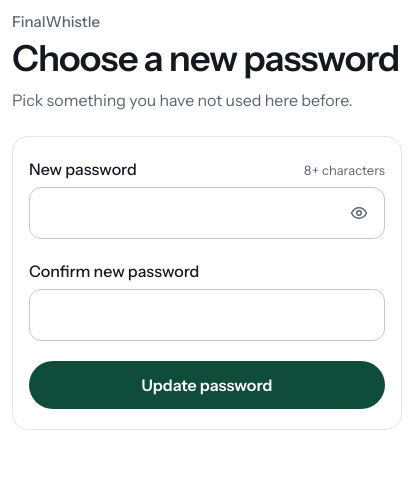
Scenario: shows a friendly error for an invalid/expired token
The width and height of the screenshot is (414, 488).
Type "newpassword1" into the password field labelled "New password" at (207, 213), box [29, 187, 385, 239]
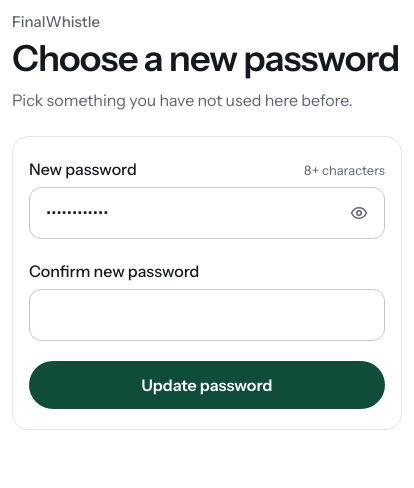
Type "newpassword1" into the password field labelled "Confirm new password" at (207, 315), box [29, 289, 385, 341]
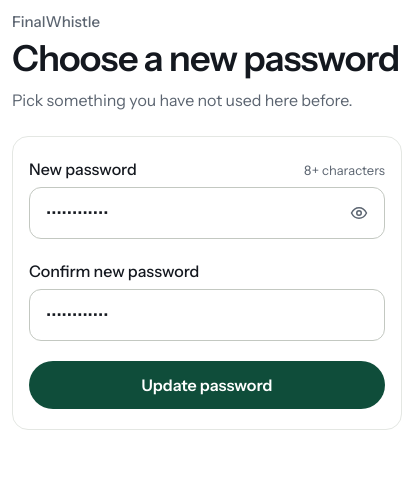
Click the button "Update password" at (207, 385), box [29, 361, 385, 409]
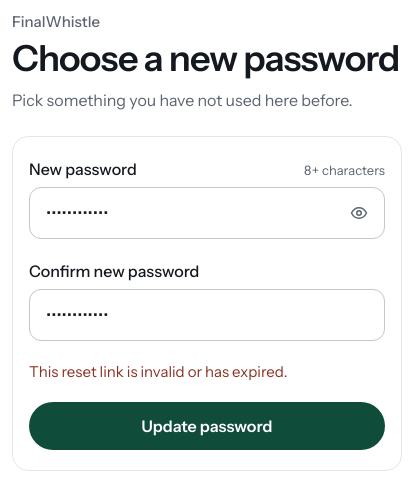
Result: the text "This reset link is invalid or has expired." is shown at [29, 362, 288, 381]
